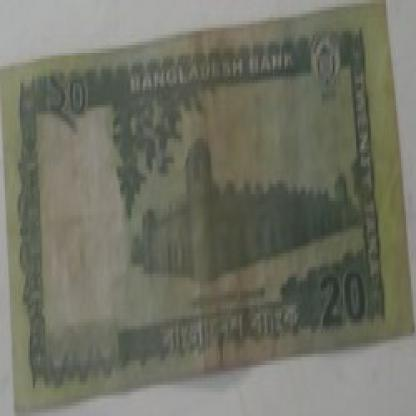Twenty: (47, 69, 103, 142), (316, 267, 369, 326)
